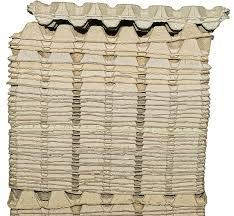Papier mache: (5, 2, 234, 216)
